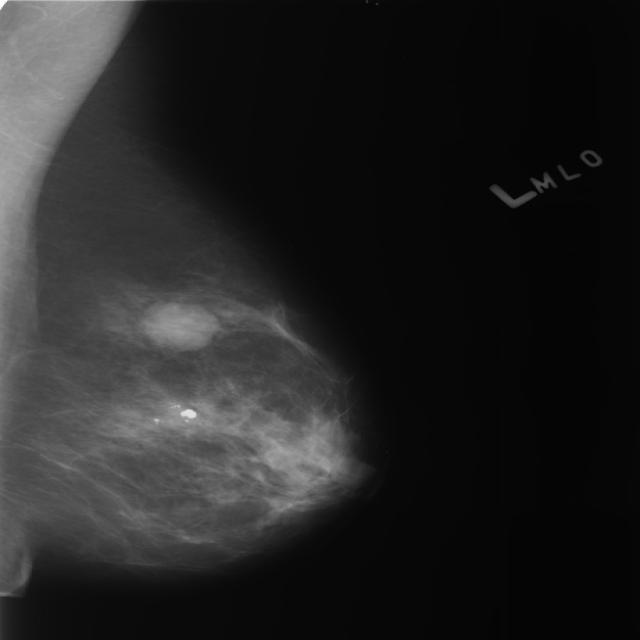tumour: (139, 299, 219, 350)
